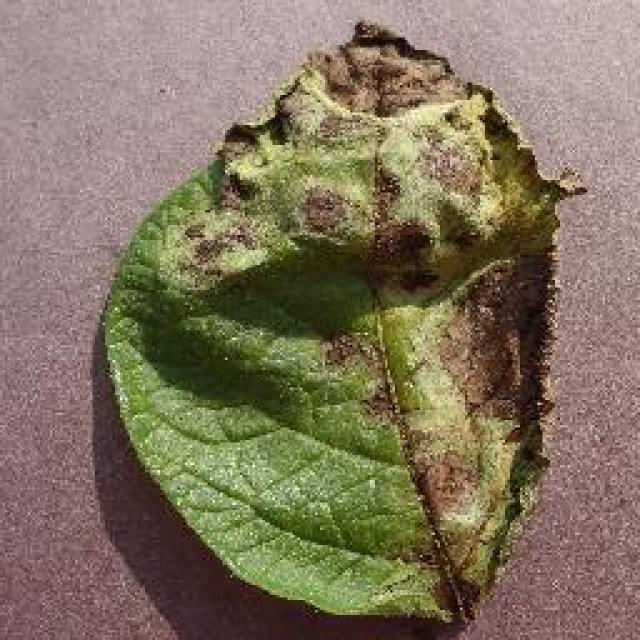Potato: (97, 18, 585, 628)
